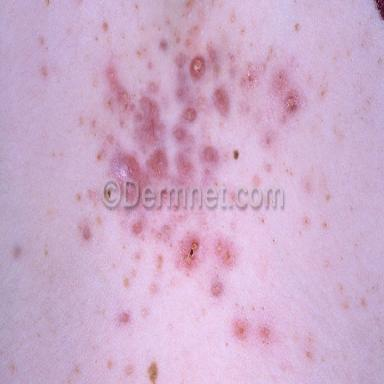acne: (134, 97, 164, 147), (105, 65, 135, 112), (177, 232, 204, 272), (110, 152, 142, 181), (147, 149, 168, 177), (215, 240, 235, 266), (241, 63, 258, 88), (214, 88, 229, 115), (207, 45, 220, 76), (177, 154, 193, 177), (284, 90, 299, 113), (190, 56, 205, 78), (273, 70, 287, 92), (202, 145, 219, 163), (233, 320, 247, 340), (157, 225, 170, 242), (183, 107, 197, 122), (211, 280, 223, 297), (175, 52, 186, 69), (173, 127, 186, 141), (132, 220, 143, 235), (260, 326, 270, 342), (119, 312, 131, 324), (148, 81, 159, 93), (176, 87, 187, 99), (83, 225, 91, 240), (40, 65, 48, 79), (149, 283, 158, 294), (97, 149, 105, 161), (160, 38, 168, 50), (125, 364, 133, 376), (157, 255, 163, 269), (253, 175, 260, 186), (142, 307, 149, 317), (133, 253, 141, 261), (107, 135, 114, 144), (361, 297, 367, 307), (303, 216, 309, 226), (107, 360, 113, 370), (39, 35, 45, 45), (265, 136, 271, 145), (265, 164, 271, 173), (87, 190, 93, 199), (306, 351, 312, 360), (119, 120, 125, 128), (294, 23, 300, 31), (131, 269, 137, 277), (103, 22, 108, 31), (124, 278, 129, 287), (77, 193, 82, 201), (323, 221, 328, 229), (339, 283, 343, 292), (325, 194, 330, 201), (175, 36, 180, 43), (92, 120, 96, 128), (148, 62, 152, 69), (349, 205, 353, 211), (341, 256, 343, 261)
